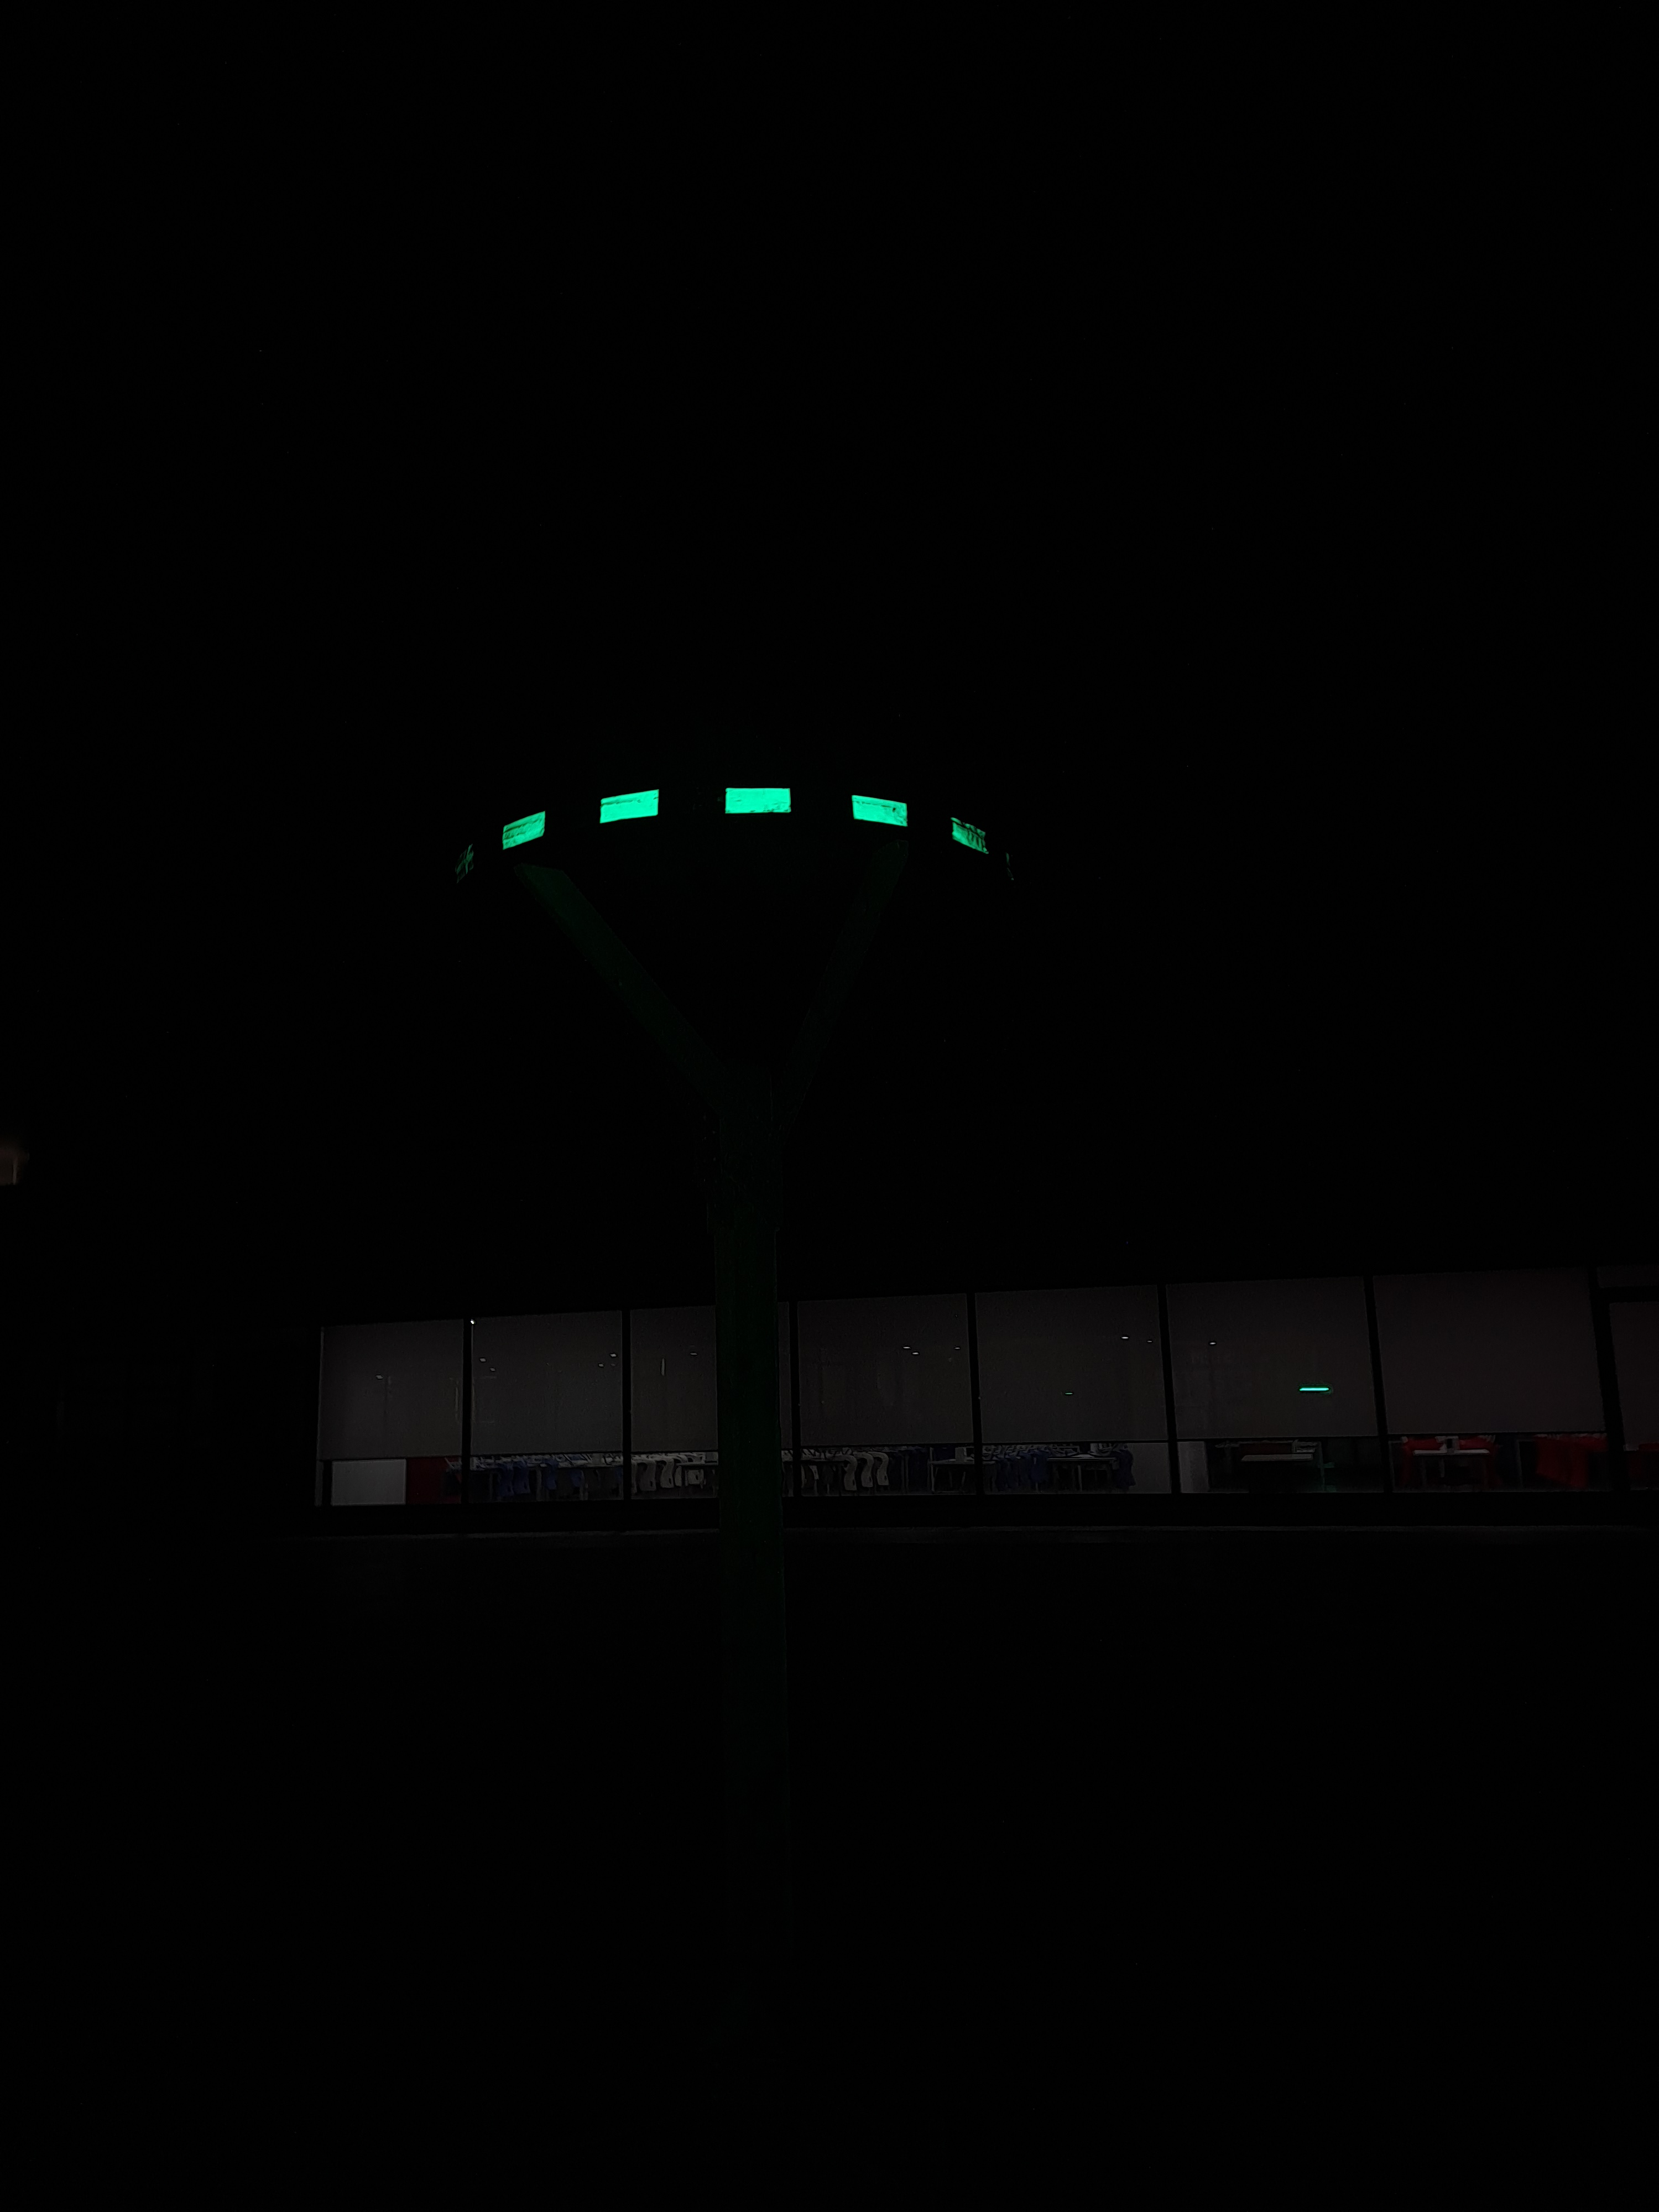hoop: (495, 784, 1002, 859)
